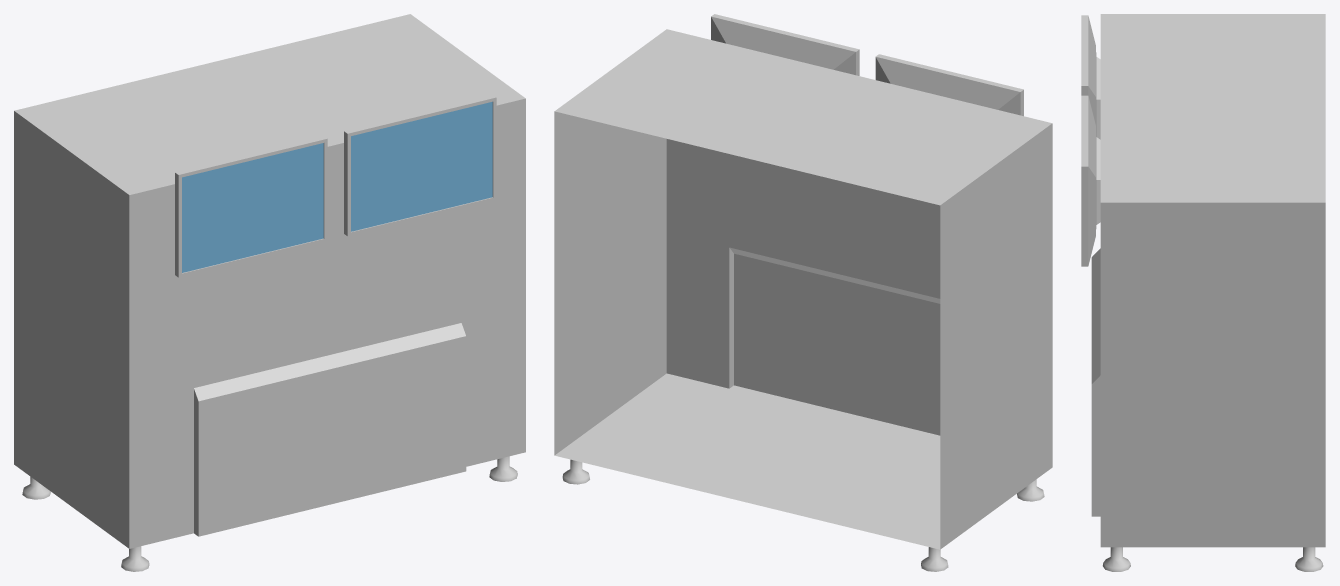
File: PcMachine.fbx
3 renders of one model, left to right at view 1: azimuth 30°, elevation 25°; view 2: azimuth 150°, elevation 25°; view 3: azimuth 270°, elevation 25°, orthographic. The views are drawn at different scales.
Visible parts, largest first — view 1: ChipPCMachine; view 2: ChipPCMachine; view 3: ChipPCMachine.
Part boxes in pixels (left/top/right/bottom): ChipPCMachine: left=14, top=14, right=525, bottom=571; ChipPCMachine: left=554, top=14, right=1052, bottom=571; ChipPCMachine: left=1081, top=14, right=1325, bottom=571.
Bounding box in the file's own units: 2.34 × 2.25 × 1.28.
